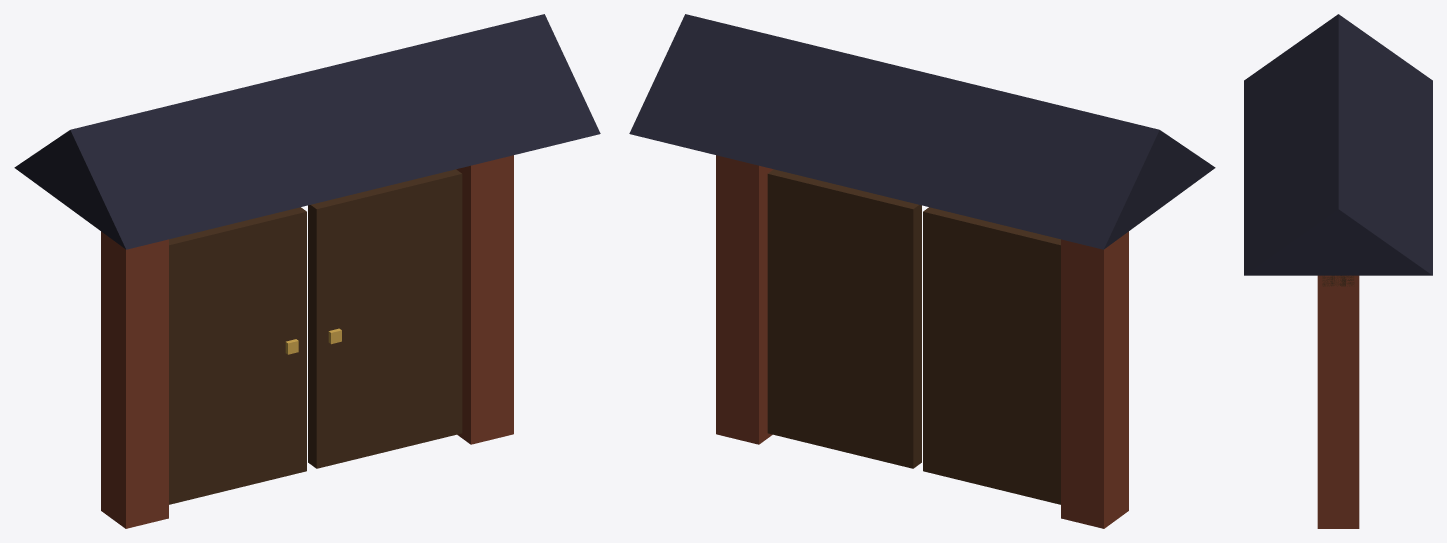
Rendered from hanok_gate_main.glb.
3 views of the same model, side by side, from view 1: azimuth 30°, elevation 25°; view 2: azimuth 150°, elevation 25°; view 3: azimuth 270°, elevation 25° (orthographic). The views are drawn at different scales.
Visible parts, largest first — view 1: hanok_gate_main; view 2: hanok_gate_main; view 3: hanok_gate_main.
Boxes of the visible parts, x1,y1,x2,y2 form: hanok_gate_main: [14, 14, 600, 528]; hanok_gate_main: [629, 14, 1215, 528]; hanok_gate_main: [1244, 14, 1432, 528].
Size of the model in its own units: 4.4 by 3.55 by 1.8.
